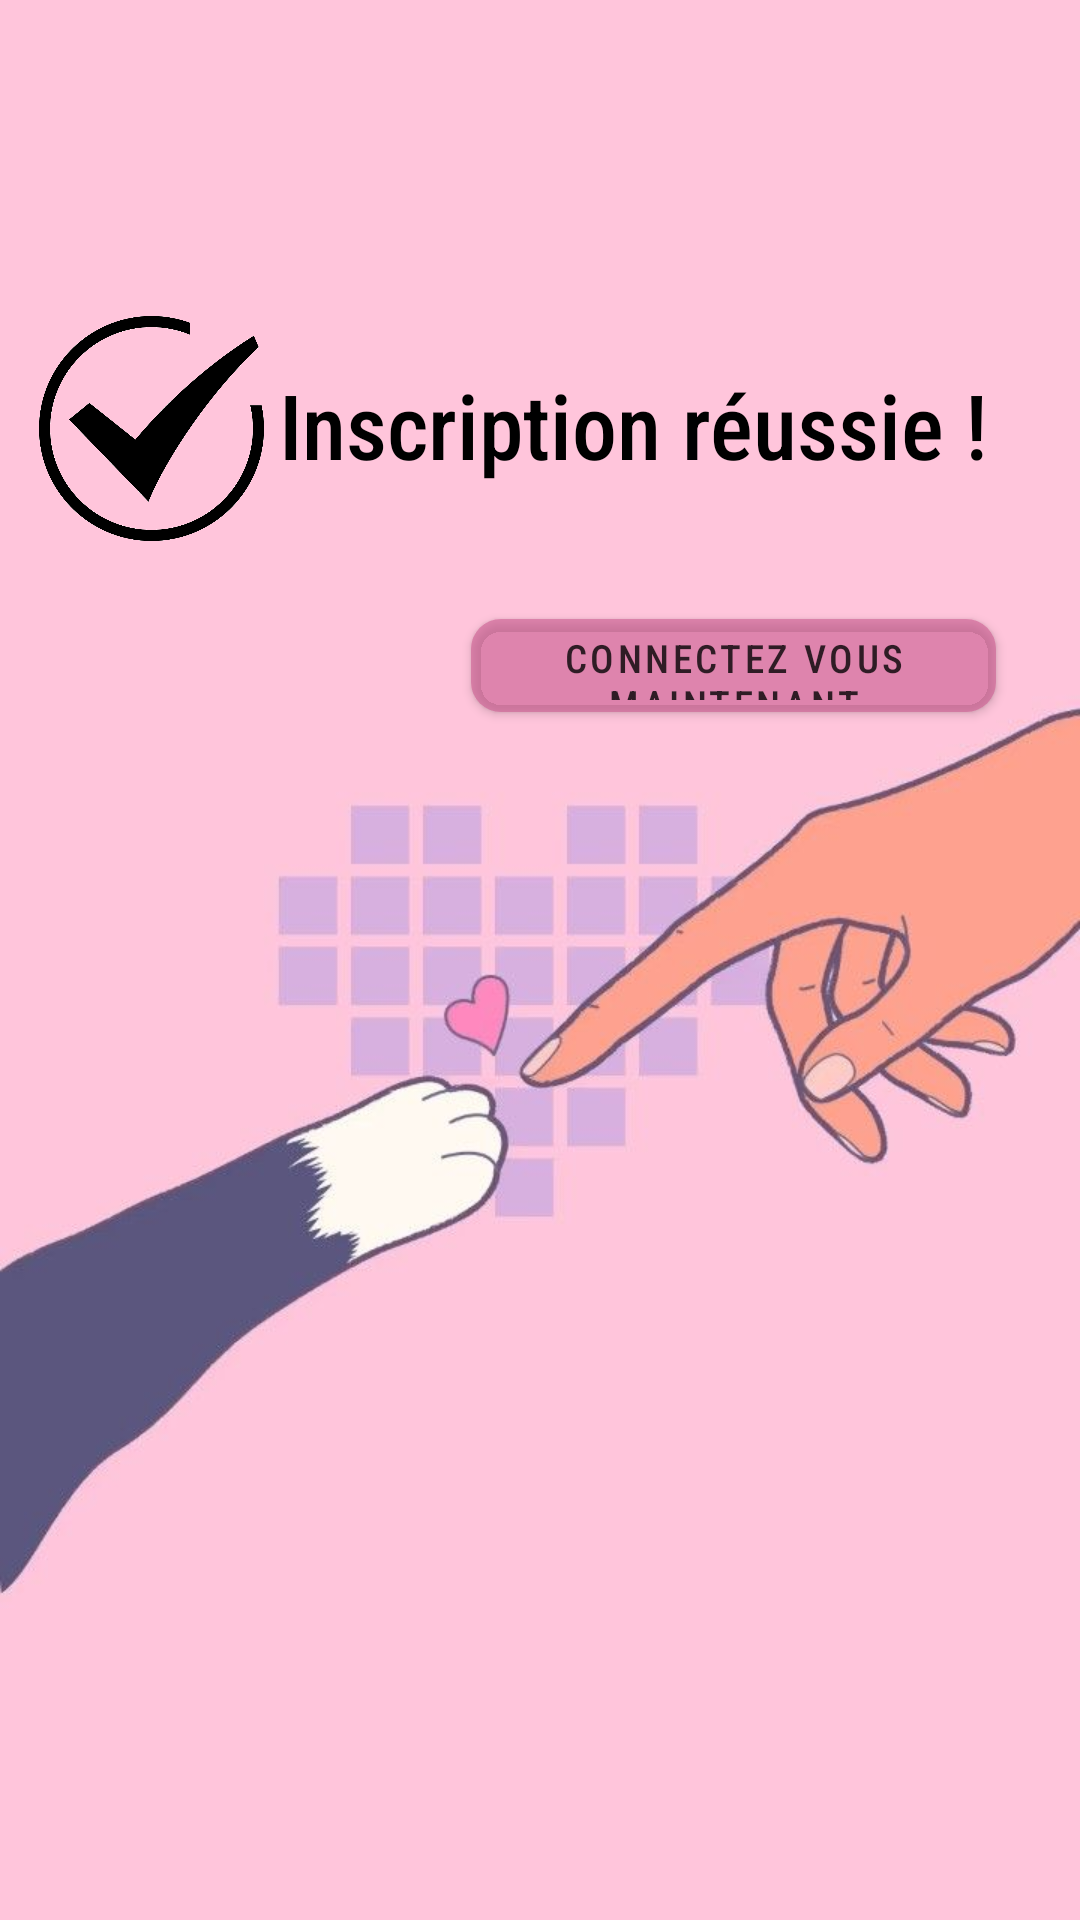

Locate icon controls on the screen. Image size 1080px x 1920px, boxes as box(x1, y1, x2, y2).
checkmark: box(39, 316, 264, 541)
